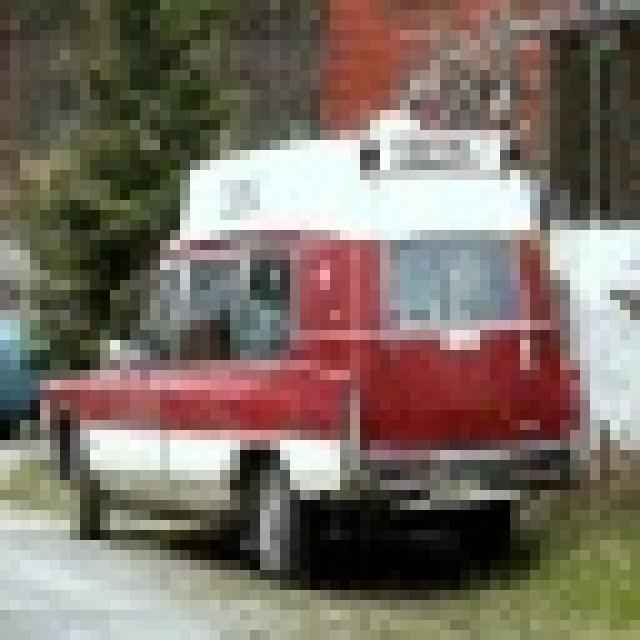Ambulance: (30, 100, 590, 570)
